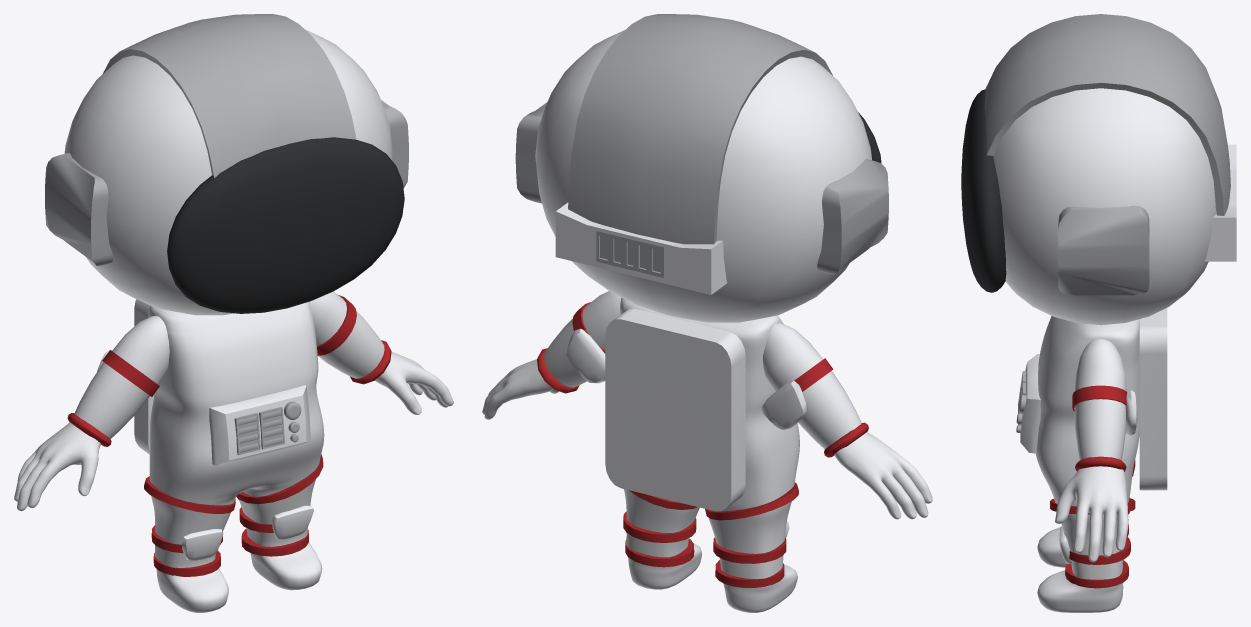
Rendered from Cute_Astronaut.glb.
3 renders of one model, left to right at view 1: azimuth 30°, elevation 25°; view 2: azimuth 150°, elevation 25°; view 3: azimuth 270°, elevation 25°, orthographic. The views are drawn at different scales.
Visible parts, largest first — view 1: Body_Cute Astronaut Material_0; view 2: Body_Cute Astronaut Material_0; view 3: Body_Cute Astronaut Material_0.
Boxes of the visible parts, bbox=[...] form: Body_Cute Astronaut Material_0: bbox=[14, 14, 453, 612]; Body_Cute Astronaut Material_0: bbox=[482, 14, 932, 612]; Body_Cute Astronaut Material_0: bbox=[961, 14, 1236, 612].
Size of the model in its own units: 8.59 by 10.53 by 4.81.
Materials: 1 (1 with a texture image).
